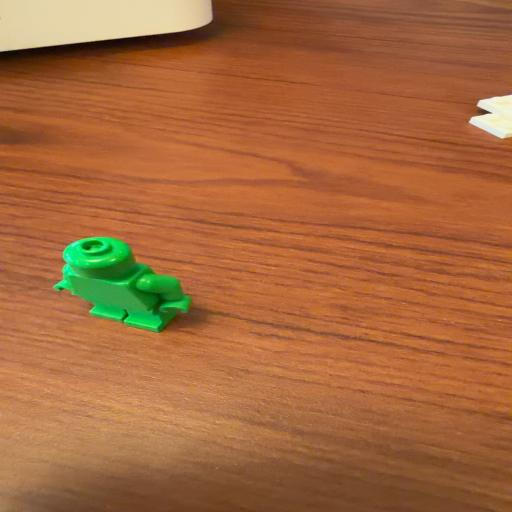UnoQ-minifig-detector: (54, 237, 191, 333)
